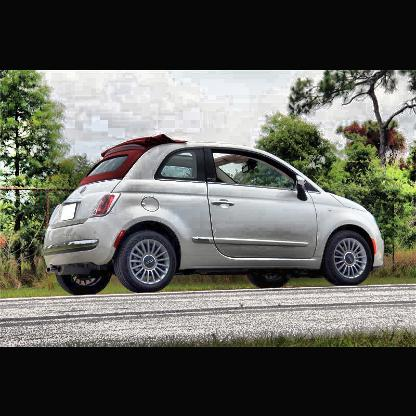FIAT 500 Convertible 2012: (44, 134, 385, 296)
